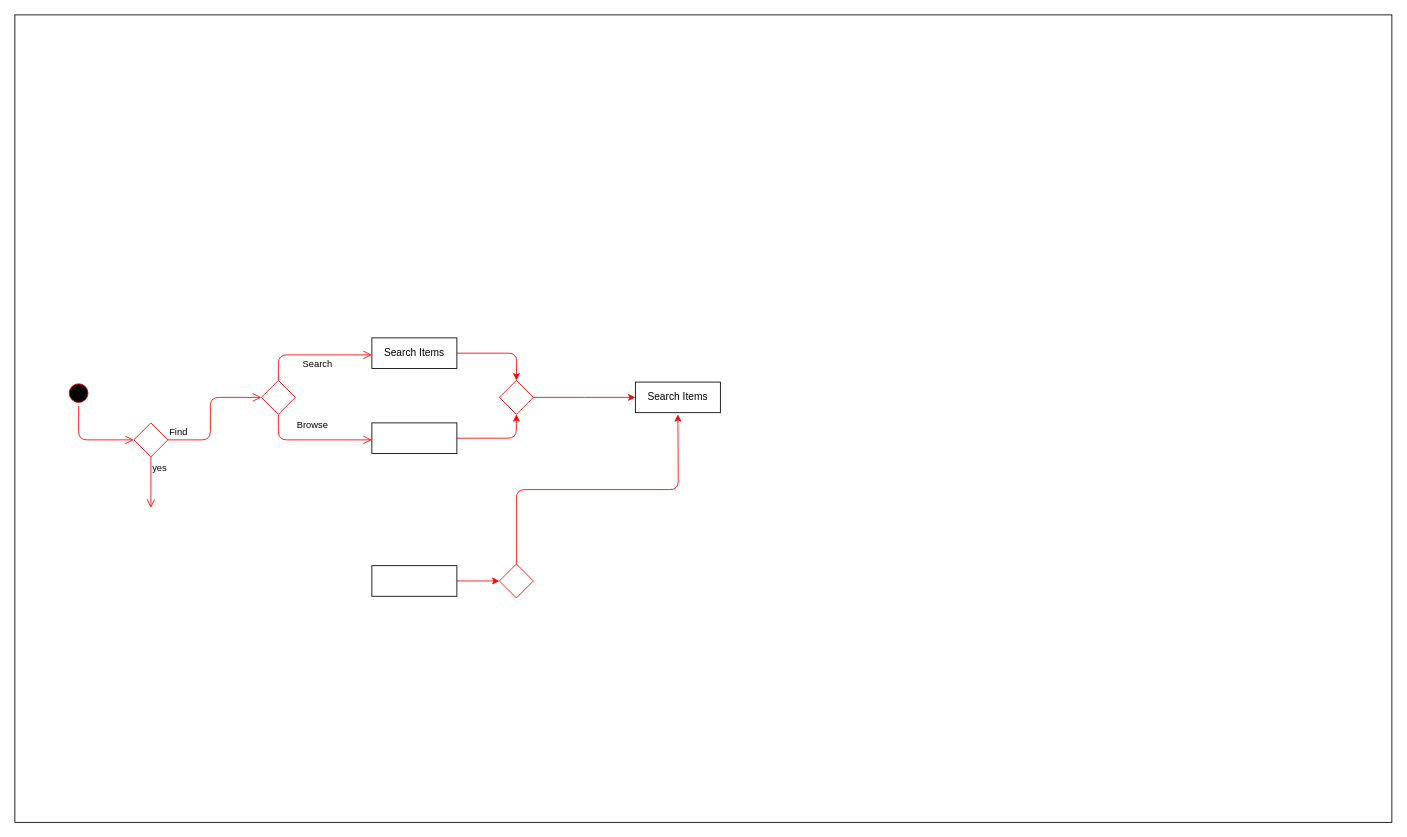
Some shapes in this 1407 by 837 pixel diagram are drawn without their labels. Here are the shapes that lost their labels. From the top down, the box of each, then its label:
(371, 422, 457, 453): Browse Items
(371, 565, 457, 596): View/Update Shopping Cart
